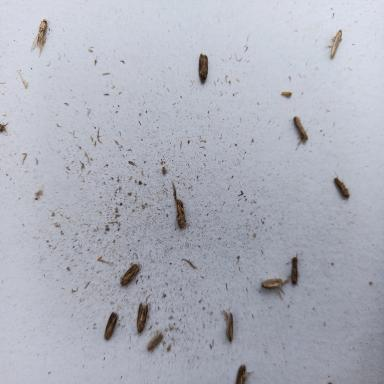pbw: (30, 19, 50, 58), (172, 180, 188, 228), (261, 276, 288, 300), (324, 27, 342, 59), (293, 116, 308, 151), (120, 263, 140, 288), (333, 170, 349, 201), (220, 310, 233, 342), (104, 311, 118, 340), (146, 329, 163, 351), (136, 302, 148, 333), (235, 364, 253, 384), (288, 251, 298, 287), (198, 51, 208, 84), (280, 91, 292, 98)
